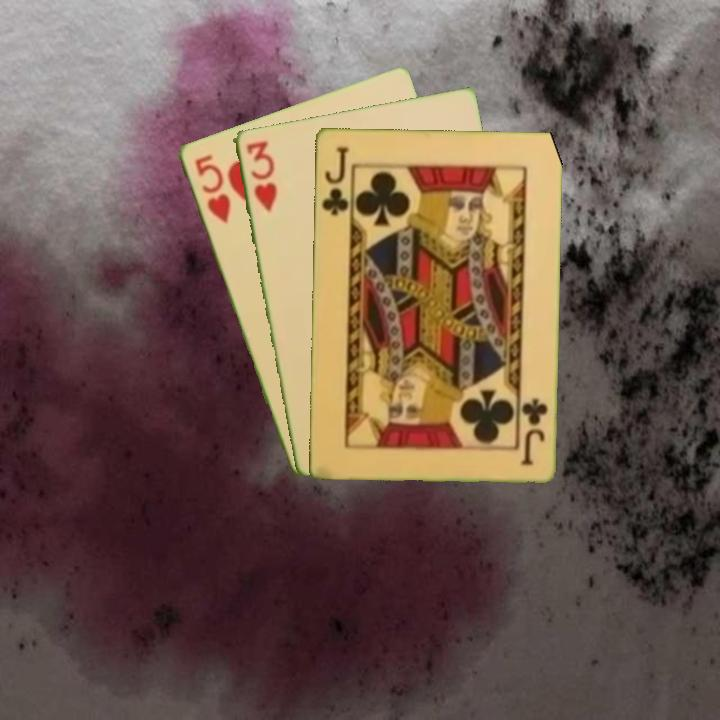3h: (242, 137, 280, 215)
5h: (191, 150, 233, 226)
Jc: (318, 143, 351, 218), (517, 394, 550, 468)
